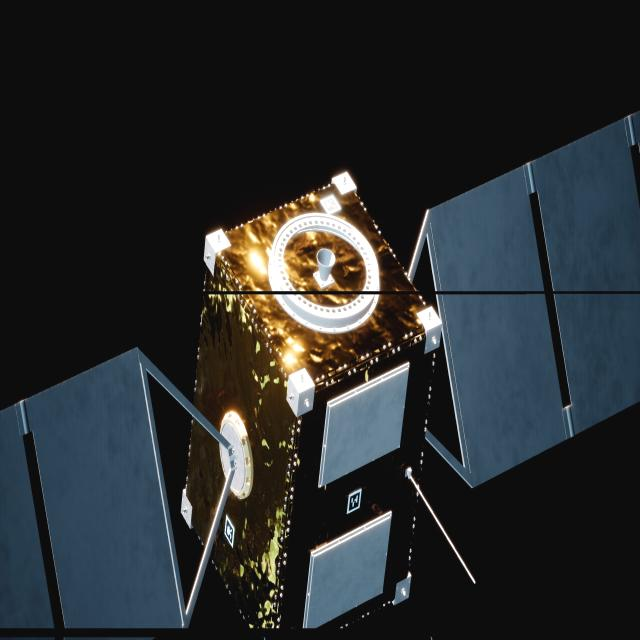satellite: (0, 111, 640, 640)
